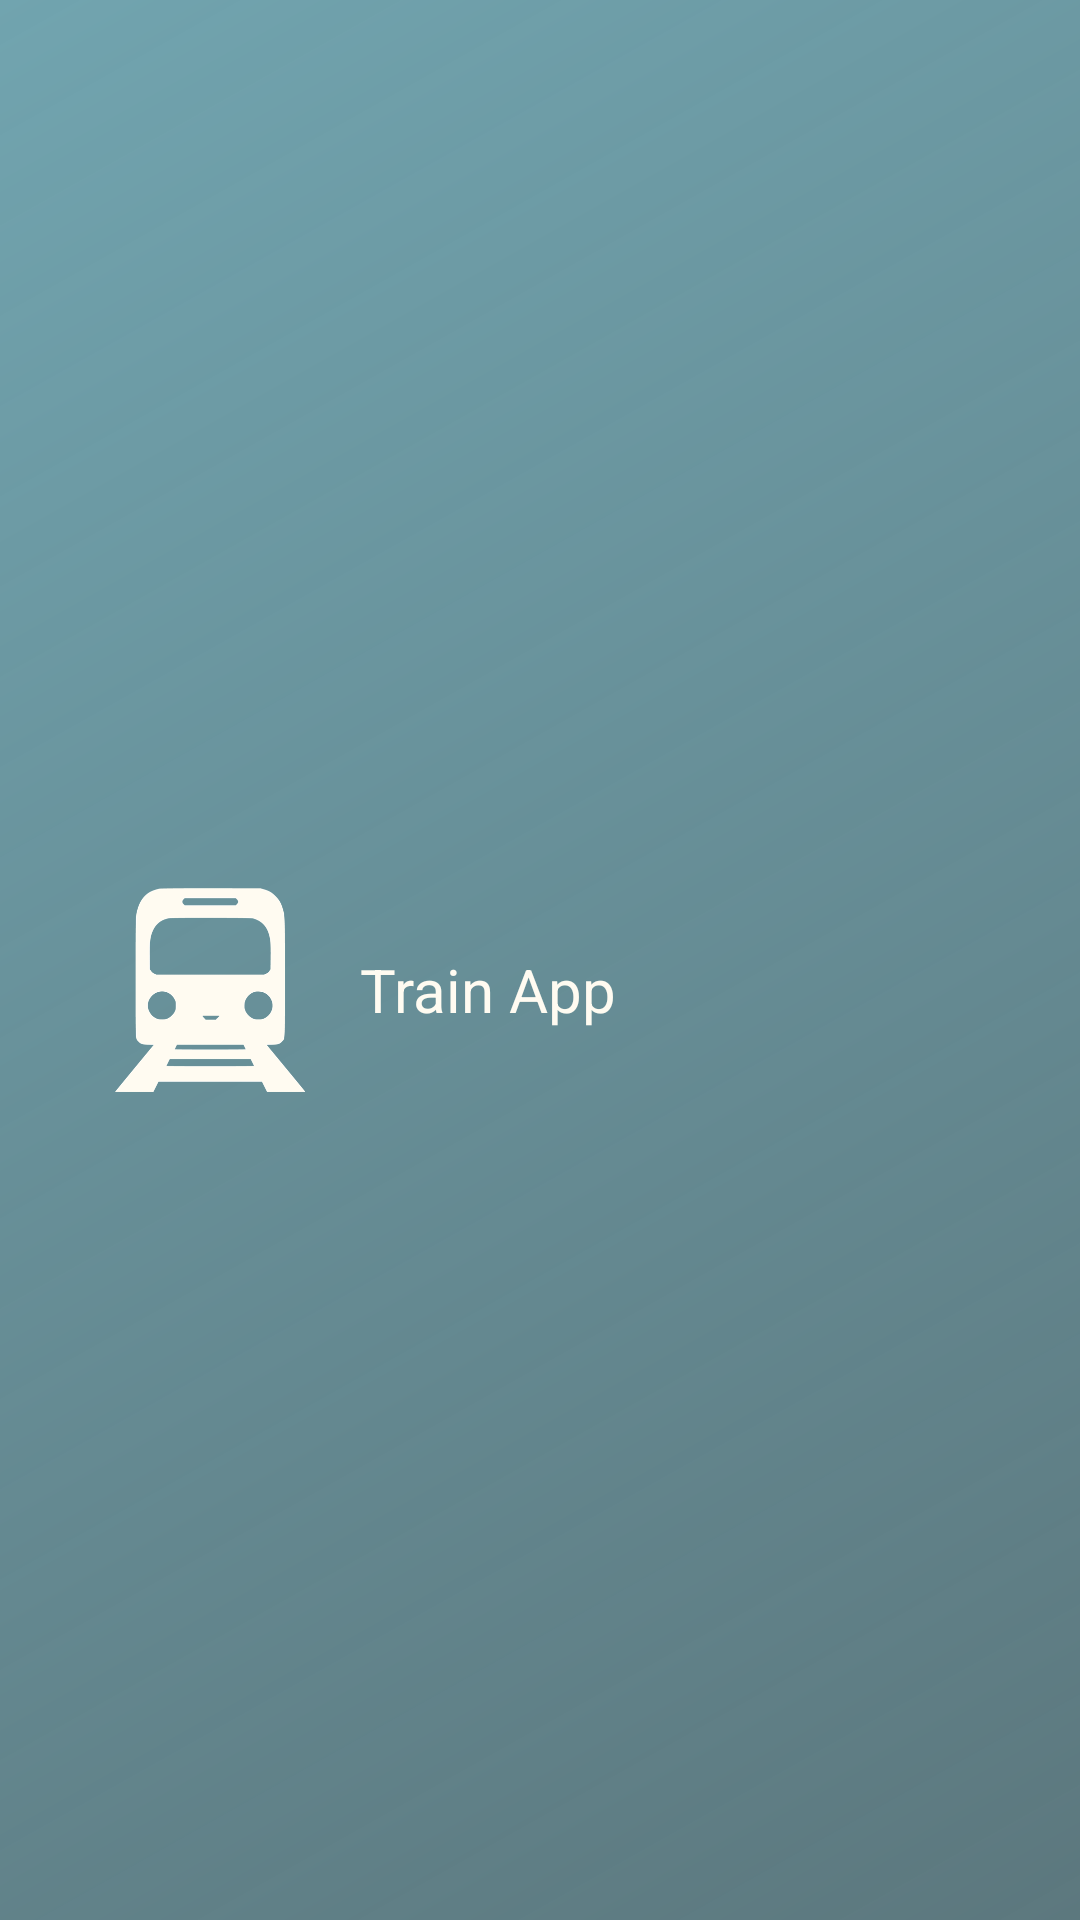

Named icons in this screenshot (1080x1920) and their centers, point (x, y):
kawaii train: point (210, 990)
